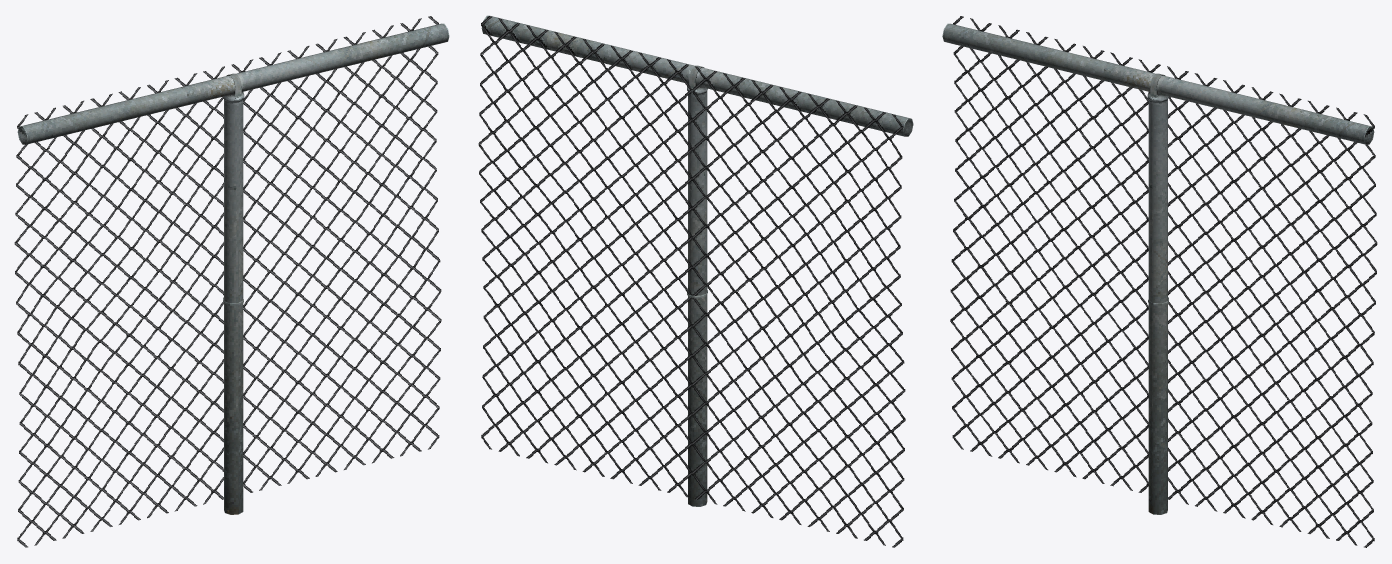
Rendered from chain_link_fence_01.glb.
3 views of the same model, side by side, from view 1: azimuth 30°, elevation 25°; view 2: azimuth 150°, elevation 25°; view 3: azimuth 330°, elevation 25° (orthographic).
Parts seen in each view (by area): view 1: chain_link_fence_01; view 2: chain_link_fence_01; view 3: chain_link_fence_01.
Part boxes in pixels (x1,y1,x2,y2): chain_link_fence_01: (14,16,449,547); chain_link_fence_01: (478,15,913,547); chain_link_fence_01: (942,16,1377,547).
Bounding box in the file's own units: 2 × 2 × 0.1125.
Materials: 2 (2 with a texture image).
